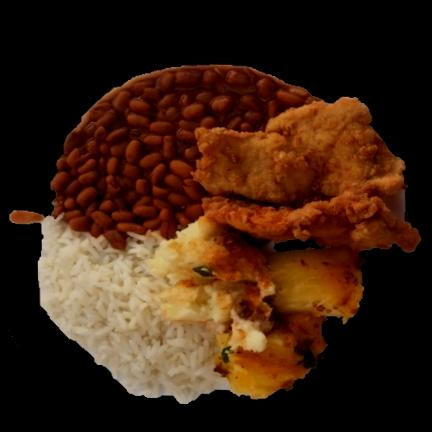cassava: (215, 247, 364, 398)
fish: (193, 97, 421, 251)
rice: (38, 215, 222, 402)
salad: (52, 66, 314, 236)
